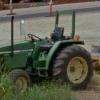Tractor: (4, 28, 100, 100)
